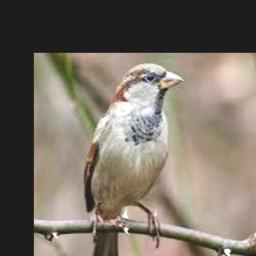Sparrow: (85, 63, 183, 256)
